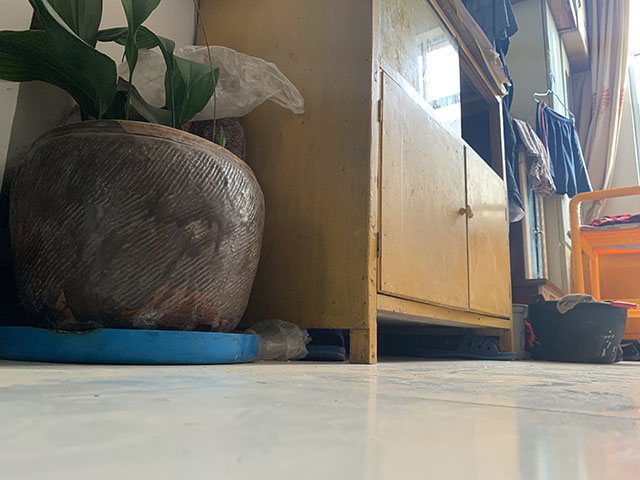cabinet: (193, 1, 513, 365)
slippers: (411, 328, 517, 360), (304, 328, 347, 362)
